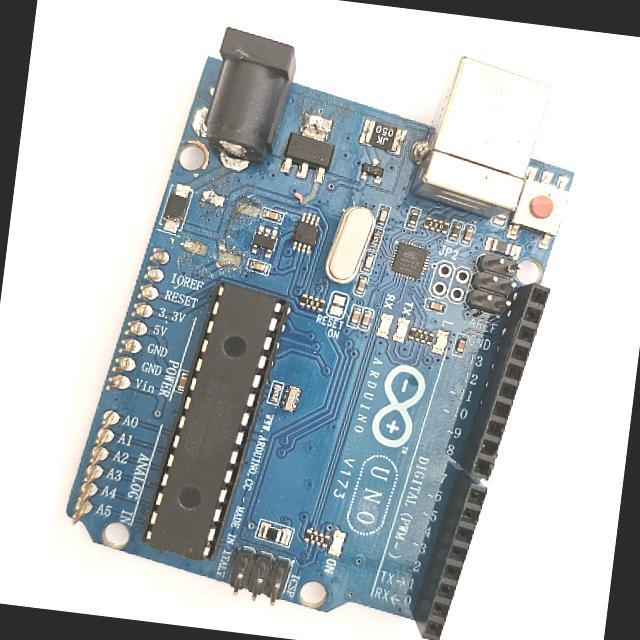missing_analog_pins: (59, 242, 177, 532)
missing_capacitors: (180, 178, 265, 275)
